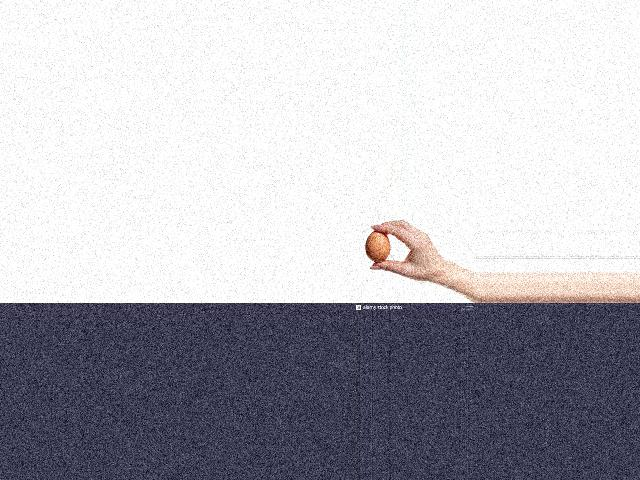egg: (365, 231, 392, 263)
